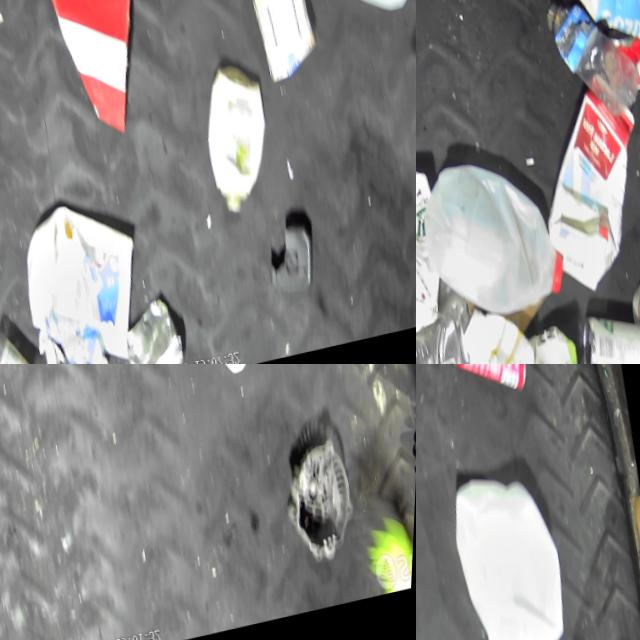can: (246, 0, 330, 91), (123, 295, 198, 364), (437, 364, 533, 410), (577, 307, 640, 364), (606, 25, 640, 99)
milk_jug: (416, 145, 576, 332), (440, 465, 589, 640), (14, 191, 163, 364), (416, 156, 460, 343)
non_white_jug: (522, 77, 640, 304), (561, 0, 640, 68)
plastic_bottle: (540, 0, 640, 131), (0, 321, 71, 364)
